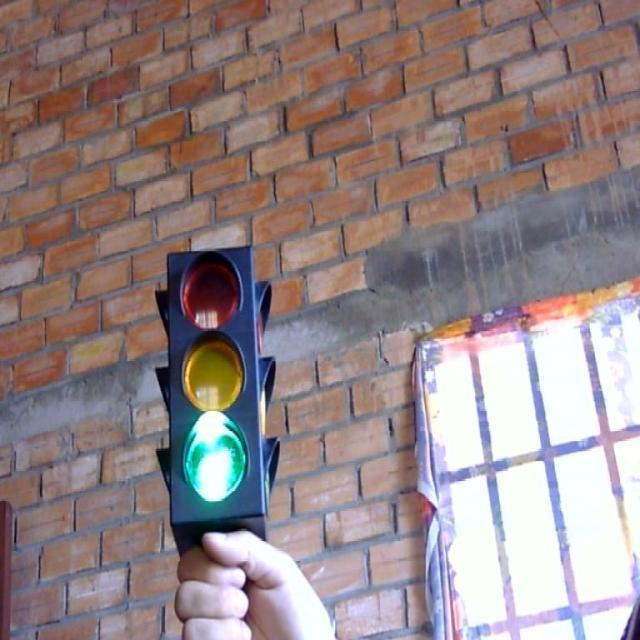green_light: (153, 244, 277, 550)
